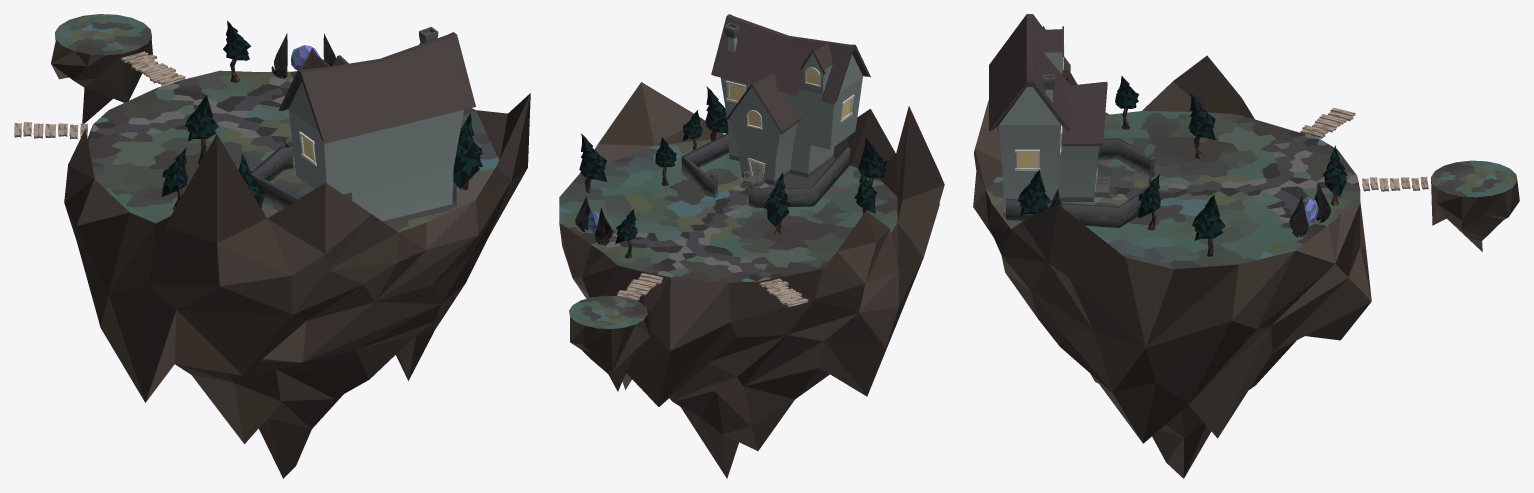
Rendered from Isla_Fantasma_Isla_Entera.FBX.
The picture shows the model from 3 angles, left to right: view 1: azimuth 30°, elevation 25°; view 2: azimuth 150°, elevation 25°; view 3: azimuth 270°, elevation 25°; orthographic projection. The views are drawn at different scales.
Parts seen in each view (by area): view 1: Isla_Fantasma_Isla_Grande, Isla_Fantasma_Mansion, Isla_Fantasma_Isla_Grande_suelo, Isla_Fantasma_Isla_Pequena, Isla_Fantasma_Isla_Pequena_suelo, Isla_Fantasma_Valla_Exterior, Isla_Fantasma_Arbol_006, Isla_Fantasma_Puente, Isla_Fantasma_Arbol_008, Isla_Fantasma_Puente001, Isla_Fantasma_Arbol_003, Isla_Fantasma_Arbol_002 (+1 smaller); view 2: Isla_Fantasma_Isla_Grande, Isla_Fantasma_Isla_Grande_suelo, Isla_Fantasma_Mansion, Isla_Fantasma_Valla_Exterior, Isla_Fantasma_Isla_Pequena, Isla_Fantasma_Isla_Pequena_suelo, Isla_Fantasma_Arbol_005, Isla_Fantasma_Arbol_008, Isla_Fantasma_Arbol_006, Isla_Fantasma_Arbol_004, Isla_Fantasma_Portal_001, Isla_Fantasma_Puente001 (+5 smaller); view 3: Isla_Fantasma_Isla_Grande, Isla_Fantasma_Isla_Grande_suelo, Isla_Fantasma_Mansion, Isla_Fantasma_Valla_Exterior, Isla_Fantasma_Isla_Pequena, Isla_Fantasma_Isla_Pequena_suelo, Isla_Fantasma_Arbol_005, Isla_Fantasma_Arbol_008, Isla_Fantasma_Arbol_006, Isla_Fantasma_Portal_001, Isla_Fantasma_Puente001, Isla_Fantasma_Arbol_002 (+3 smaller).
Part boxes in pixels (x1,y1,x2,y2): Isla_Fantasma_Isla_Grande: (64,71,530,478); Isla_Fantasma_Mansion: (279,26,475,224); Isla_Fantasma_Isla_Grande_suelo: (88,70,499,232); Isla_Fantasma_Isla_Pequena: (51,35,152,123); Isla_Fantasma_Isla_Pequena_suelo: (55,14,151,55); Isla_Fantasma_Valla_Exterior: (251,139,456,210); Isla_Fantasma_Arbol_006: (453,113,480,189); Isla_Fantasma_Puente: (121,51,185,85); Isla_Fantasma_Arbol_008: (185,95,218,164); Isla_Fantasma_Puente001: (14,122,87,139); Isla_Fantasma_Arbol_003: (162,147,187,209); Isla_Fantasma_Arbol_002: (223,20,250,82); Isla_Fantasma_Isla_Grande: (559,82,944,478); Isla_Fantasma_Isla_Grande_suelo: (559,138,897,282); Isla_Fantasma_Mansion: (711,14,870,189); Isla_Fantasma_Valla_Exterior: (681,133,850,207); Isla_Fantasma_Isla_Pequena: (570,304,653,391); Isla_Fantasma_Isla_Pequena_suelo: (569,295,647,328); Isla_Fantasma_Arbol_005: (579,133,607,192); Isla_Fantasma_Arbol_008: (764,172,789,234); Isla_Fantasma_Arbol_006: (705,86,728,141); Isla_Fantasma_Arbol_004: (858,138,887,186); Isla_Fantasma_Portal_001: (575,196,612,245); Isla_Fantasma_Puente001: (759,278,808,306); Isla_Fantasma_Isla_Grande: (973,26,1371,478); Isla_Fantasma_Isla_Grande_suelo: (986,111,1360,269); Isla_Fantasma_Mansion: (989,14,1116,217); Isla_Fantasma_Valla_Exterior: (1006,138,1155,227); Isla_Fantasma_Isla_Pequena: (1431,178,1519,251); Isla_Fantasma_Isla_Pequena_suelo: (1431,160,1517,197); Isla_Fantasma_Arbol_005: (1192,195,1225,256); Isla_Fantasma_Arbol_008: (1188,93,1215,158); Isla_Fantasma_Arbol_006: (1017,170,1051,216); Isla_Fantasma_Portal_001: (1289,184,1330,237); Isla_Fantasma_Puente001: (1300,107,1355,138); Isla_Fantasma_Arbol_002: (1323,145,1347,205).
Bounding box in the file's own units: 247 × 288 × 327.
17 materials, 5 textured.
